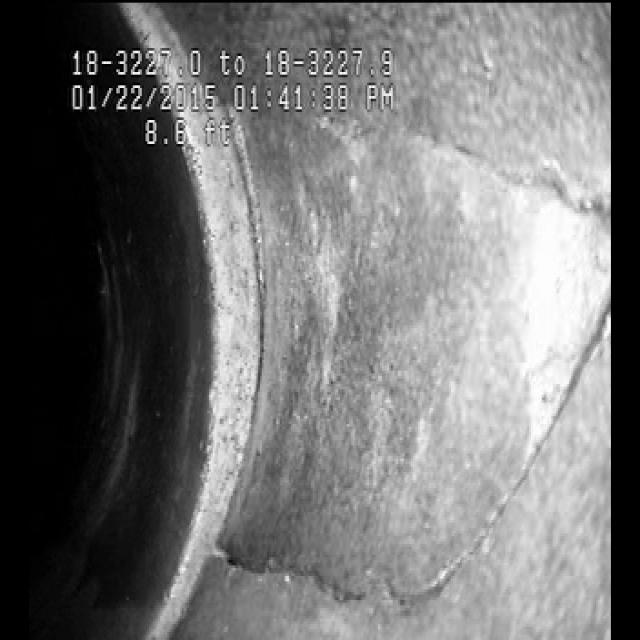Crack: (265, 419, 568, 639), (426, 98, 588, 244)
